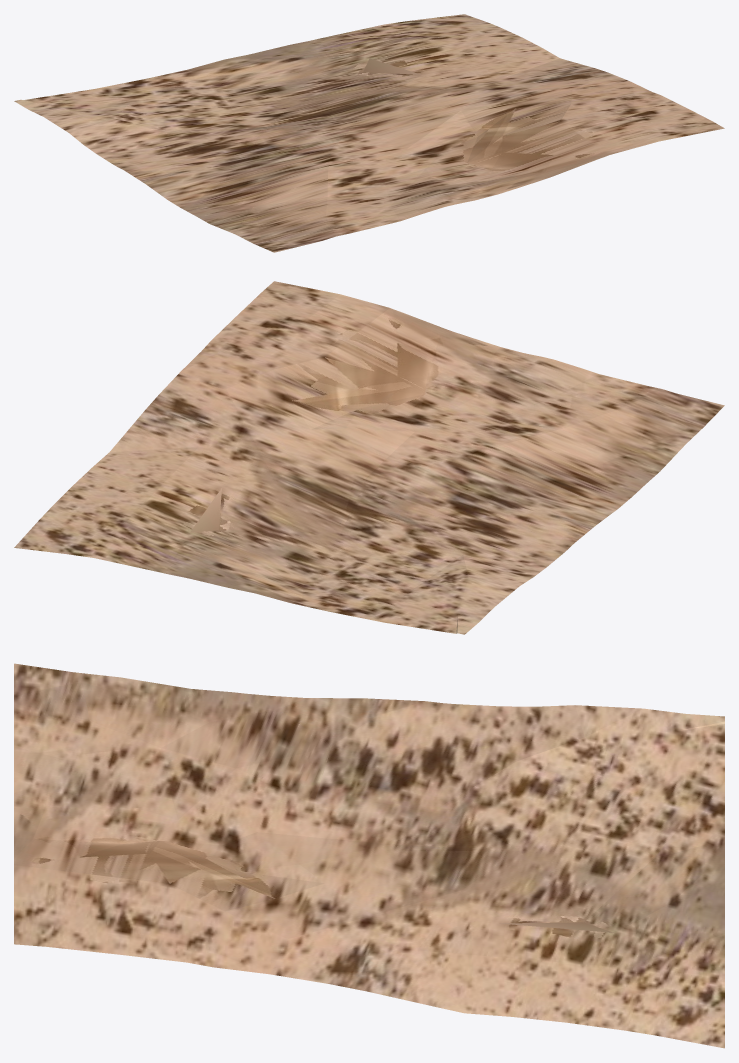
The picture shows the model from 3 angles, top to bottom: view 1: azimuth 30°, elevation 25°; view 2: azimuth 150°, elevation 25°; view 3: azimuth 270°, elevation 25°; orthographic projection. The views are drawn at different scales.
Bounding box in the file's own units: 1.04 × 0.1754 × 1.04.
Materials: 2 (2 with a texture image).
